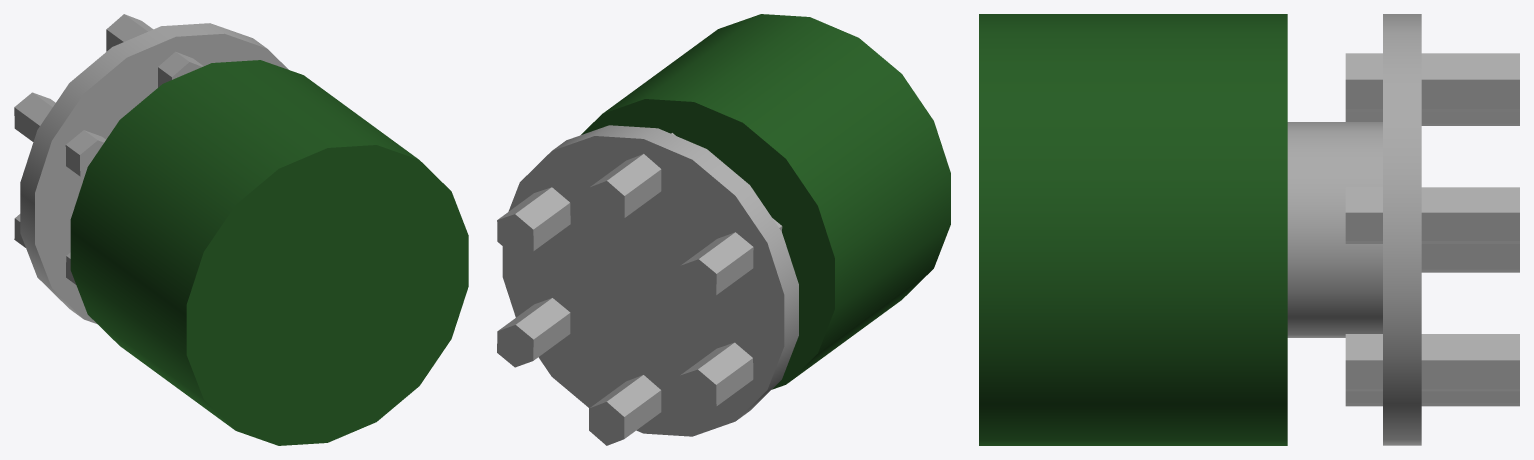
The model's file is Pipe_Socket-Straight2-16cm.fbx.
3 views of the same model, side by side, from view 1: azimuth 30°, elevation 25°; view 2: azimuth 150°, elevation 25°; view 3: azimuth 270°, elevation 25° (orthographic). The views are drawn at different scales.
Visible parts, largest first — view 1: Pipe_Socket-Straight2_16cm; view 2: Pipe_Socket-Straight2_16cm; view 3: Pipe_Socket-Straight2_16cm.
Part boxes in pixels (left/top/right/bottom): Pipe_Socket-Straight2_16cm: left=14, top=14, right=468, bottom=445; Pipe_Socket-Straight2_16cm: left=497, top=14, right=950, bottom=445; Pipe_Socket-Straight2_16cm: left=979, top=14, right=1519, bottom=445.
Bounding box in the file's own units: 16 × 16 × 20.
